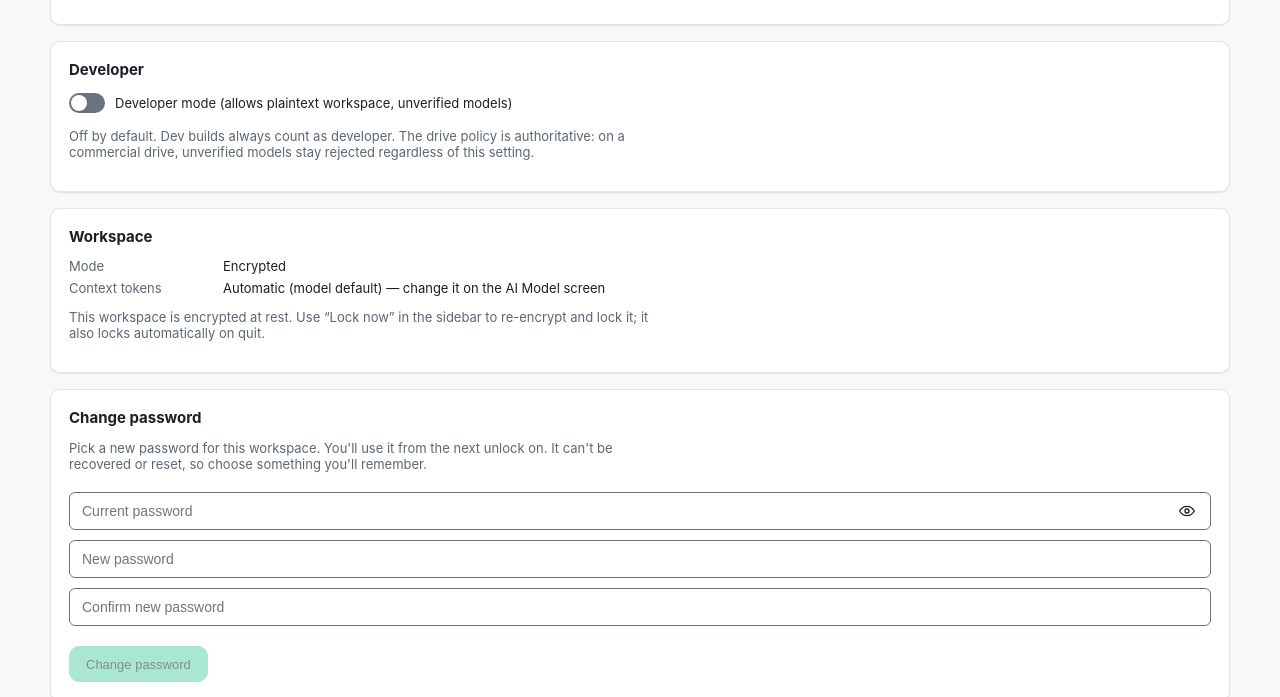
Test: Settings → Change password (Phase 32) › surfaces a wrong-current-password failure as the friendly message, keeping the fields
The width and height of the screenshot is (1280, 697).
(page scrolled)
Expected: the heading "Change password" is shown, left=69, top=408, right=202, bottom=427
In the password field labelled "Current password": (640, 511) left=69, top=492, right=1211, bottom=530, type "wrong-current"
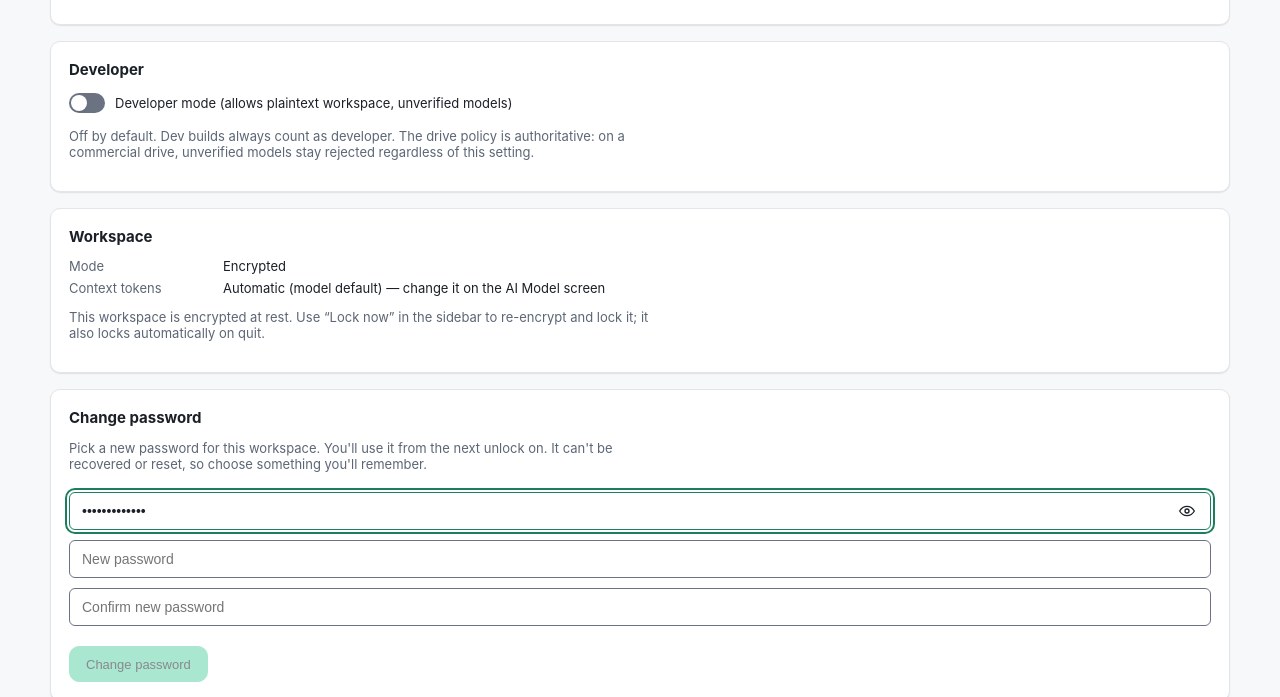
In the password field labelled "New password": (640, 559) left=69, top=540, right=1211, bottom=578, type "long-enough-pw"
(page scrolled)
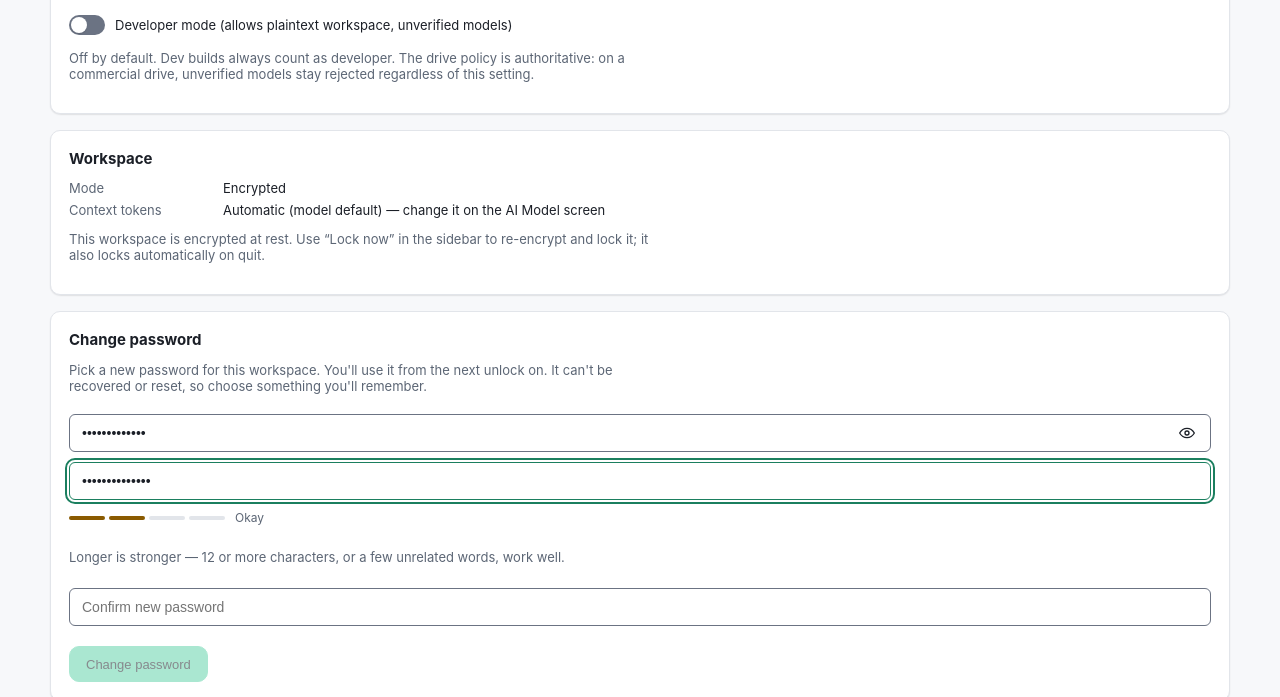
In the password field labelled "Confirm new password": (640, 607) left=69, top=588, right=1211, bottom=626, type "long-enough-pw"
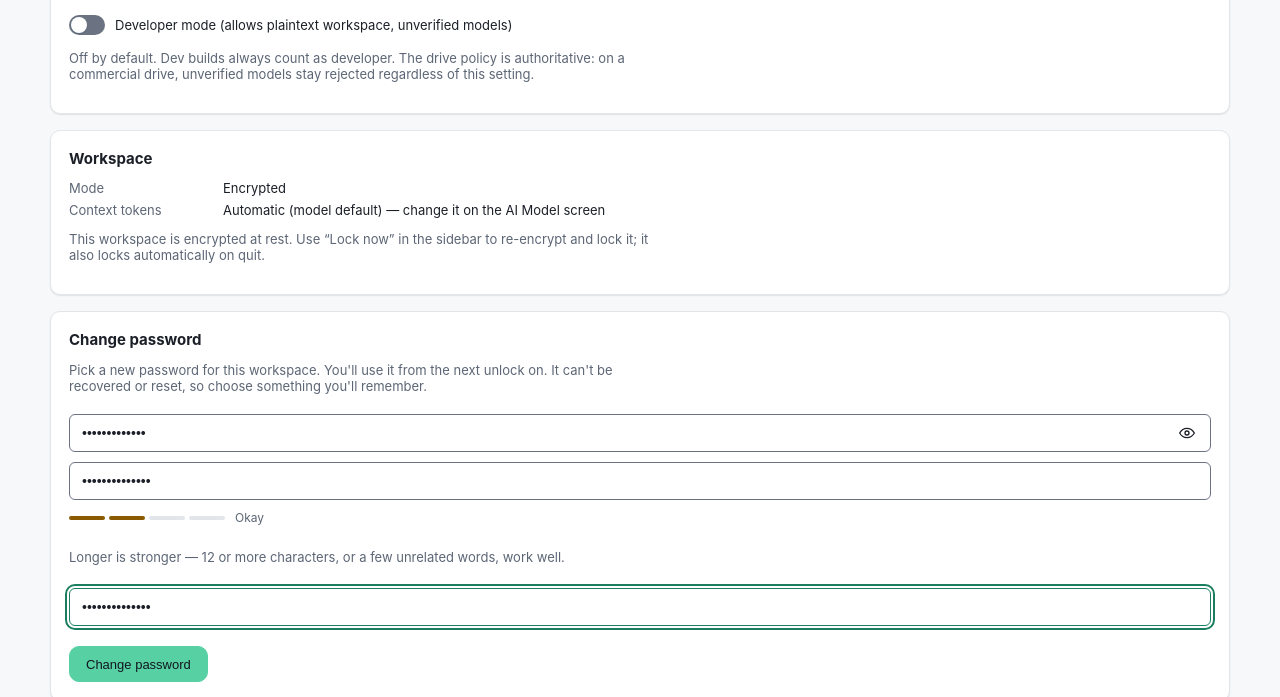
Click the button "Change password": (138, 664) left=69, top=646, right=208, bottom=682
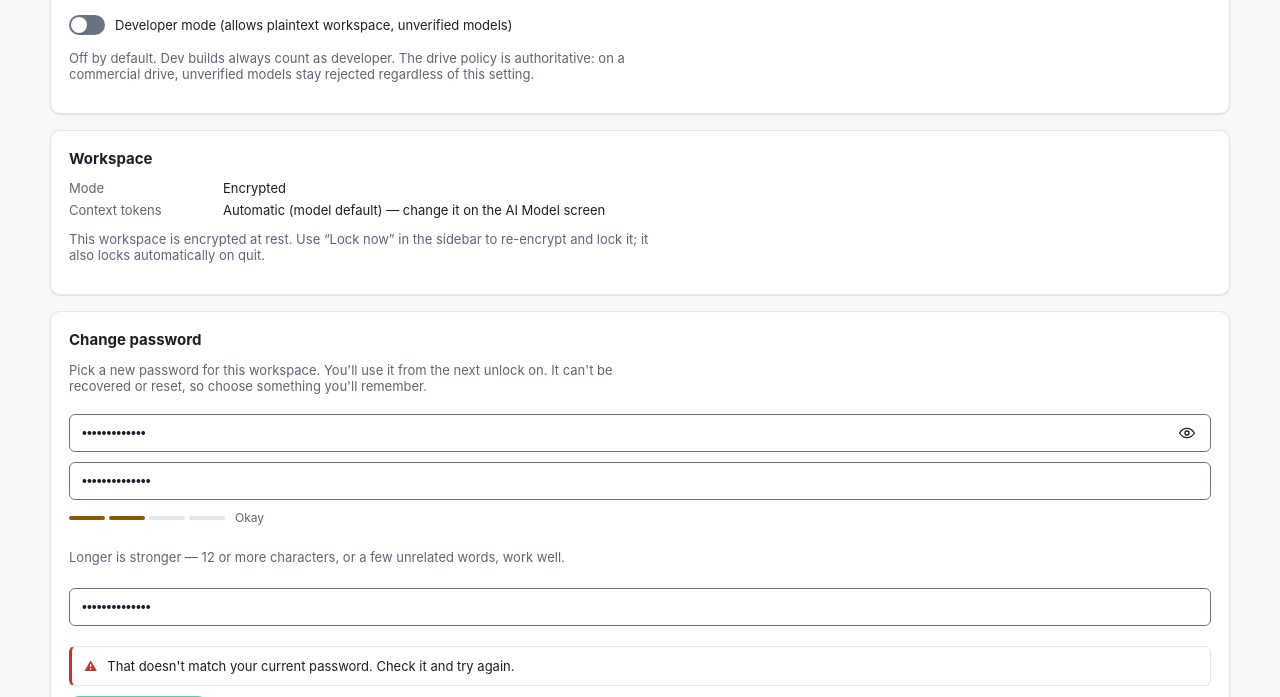
Expected: the text "doesn't match your current password" is shown, left=107, top=658, right=514, bottom=674
